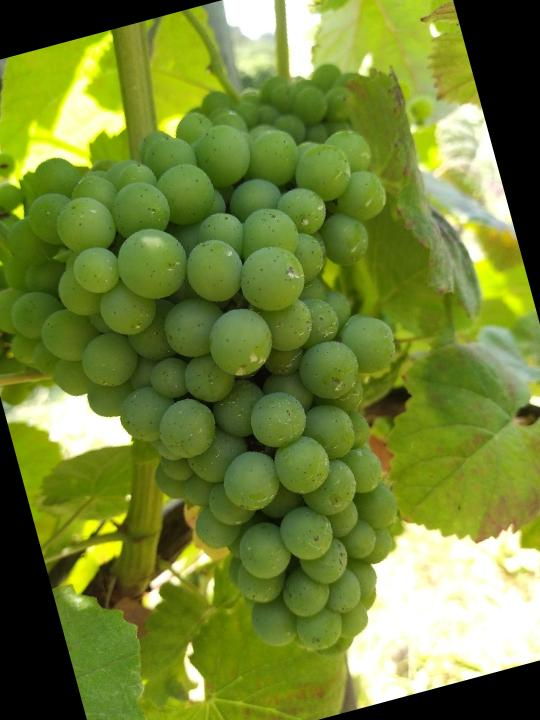grape: (0, 70, 501, 719)
